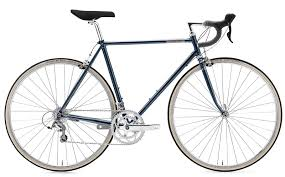bicycle: (4, 3, 283, 175)
